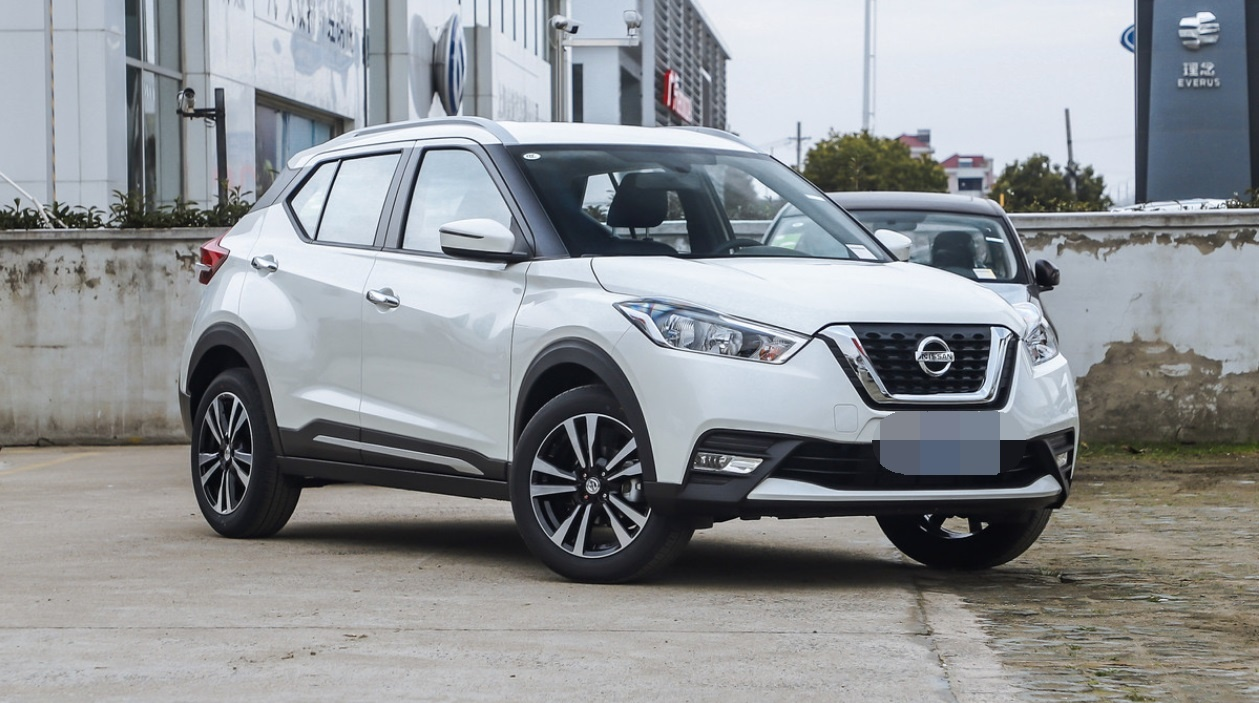SUV: (157, 96, 1101, 632)
